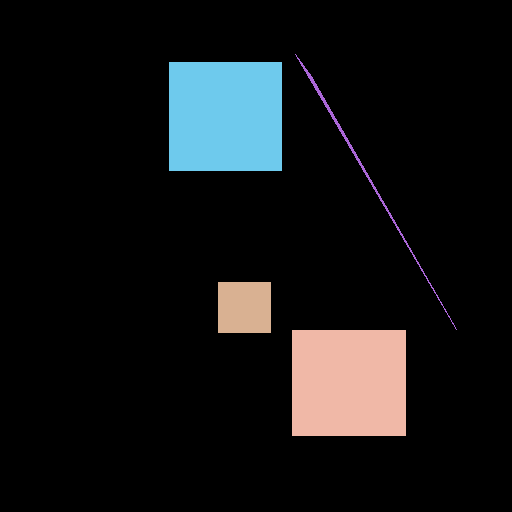square: (169, 62, 281, 170), (292, 330, 405, 435), (218, 282, 270, 332)
